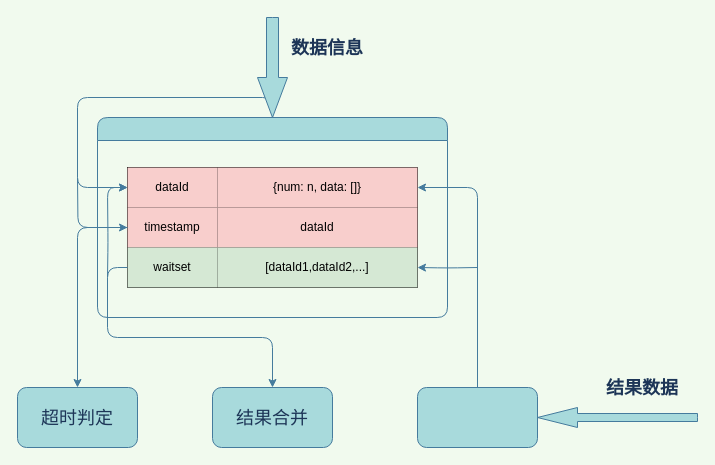
Image size: 715x465. Some labels were removed from this diagram. Here are the shapes that lost their labels. From the top down, the box of each, then its label:
(96, 116, 448, 318): Redis
(416, 386, 538, 448): 结果同步
